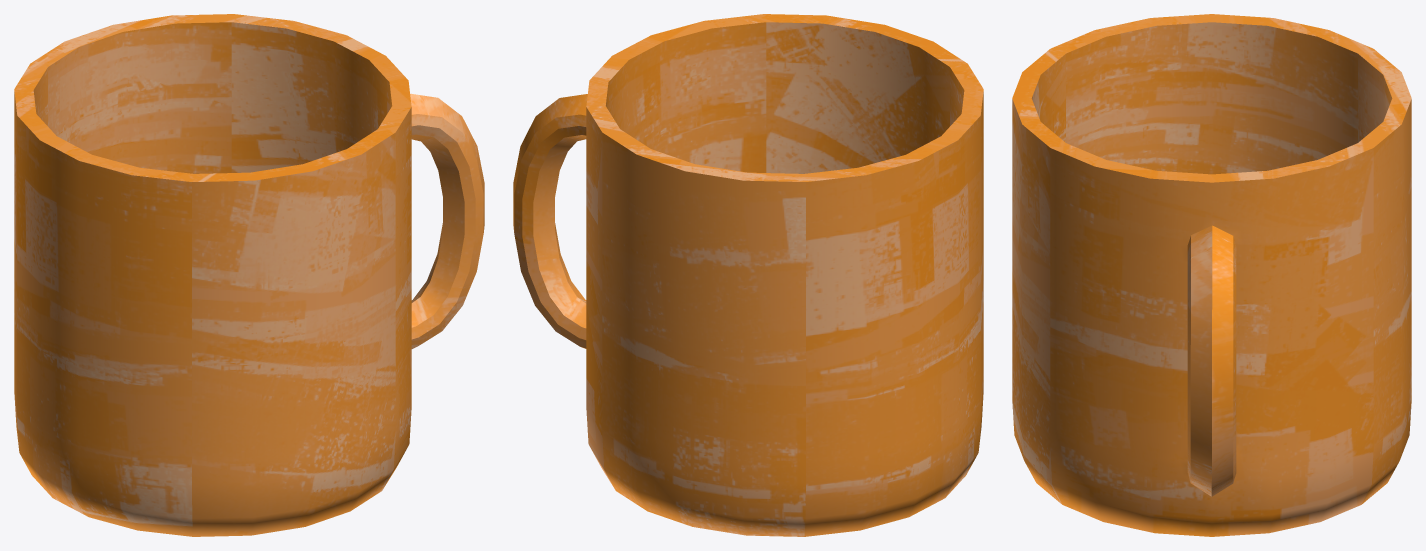
Rendered from OrangeMug.obj.
3 views of the same model, side by side, from view 1: azimuth 30°, elevation 25°; view 2: azimuth 150°, elevation 25°; view 3: azimuth 270°, elevation 25° (orthographic).
Visible parts, largest first — view 1: Mug:pCylinder12; view 2: Mug:pCylinder12; view 3: Mug:pCylinder12.
Boxes of the visible parts, x1,y1,x2,y2 form: Mug:pCylinder12: (14, 14, 484, 536); Mug:pCylinder12: (513, 14, 983, 536); Mug:pCylinder12: (1012, 14, 1411, 536).
Bounding box in the file's own units: 1.33 × 1.03 × 1.04.
